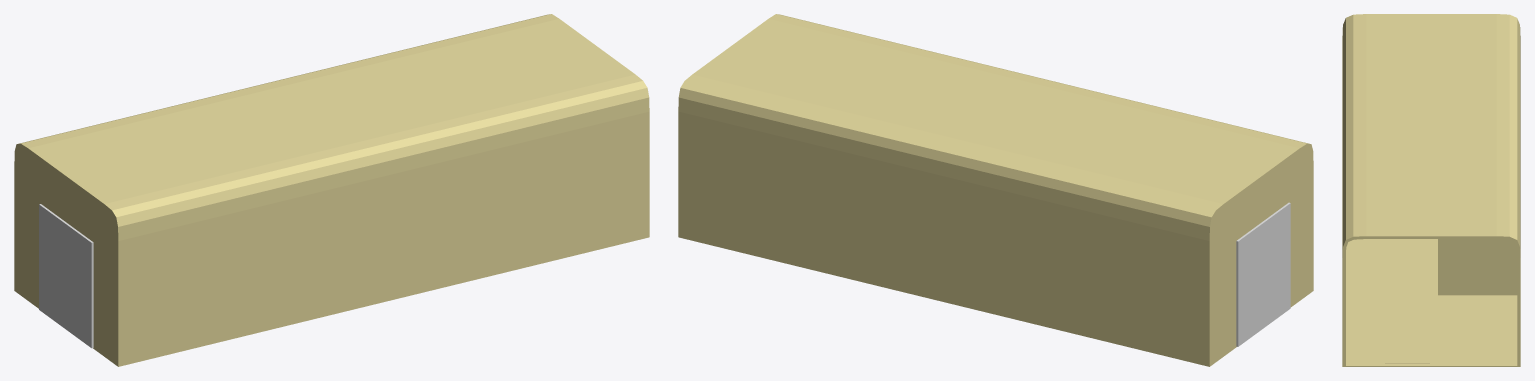
File: train.fbx
3 views of the same model, side by side, from view 1: azimuth 30°, elevation 25°; view 2: azimuth 150°, elevation 25°; view 3: azimuth 270°, elevation 25° (orthographic). The views are drawn at different scales.
Visible parts, largest first — view 1: Cube, door2, door1; view 2: Cube, door1, door2; view 3: Cube.
Boxes of the visible parts, left/top/right/bottom form: Cube: left=14, top=14, right=649, bottom=366; door2: left=65, top=223, right=93, bottom=348; door1: left=39, top=204, right=66, bottom=328; Cube: left=678, top=14, right=1313, bottom=366; door1: left=1236, top=222, right=1264, bottom=346; door2: left=1263, top=202, right=1290, bottom=327; Cube: left=1342, top=14, right=1520, bottom=366.
Size of the model in its own units: 4629 by 1267 by 1563.
